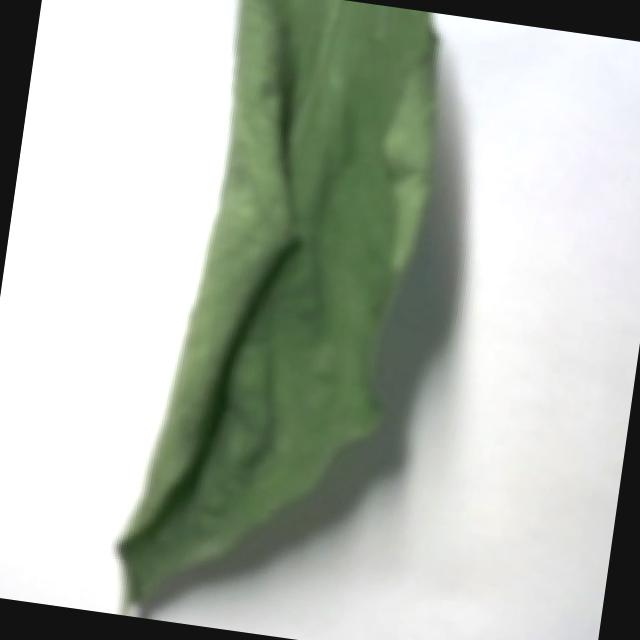Leaf: (107, 0, 460, 639)
